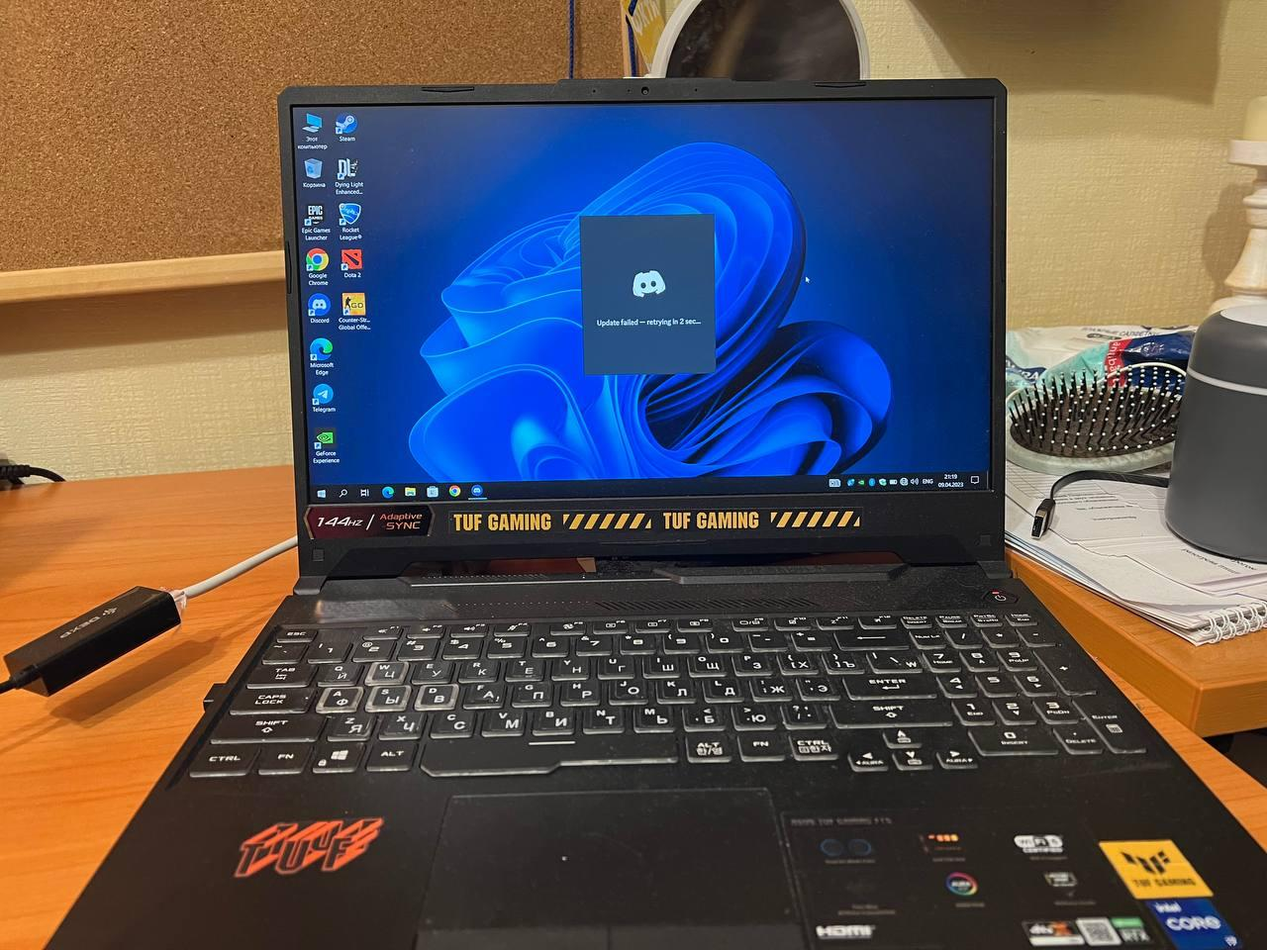monitor: (269, 73, 1024, 590)
